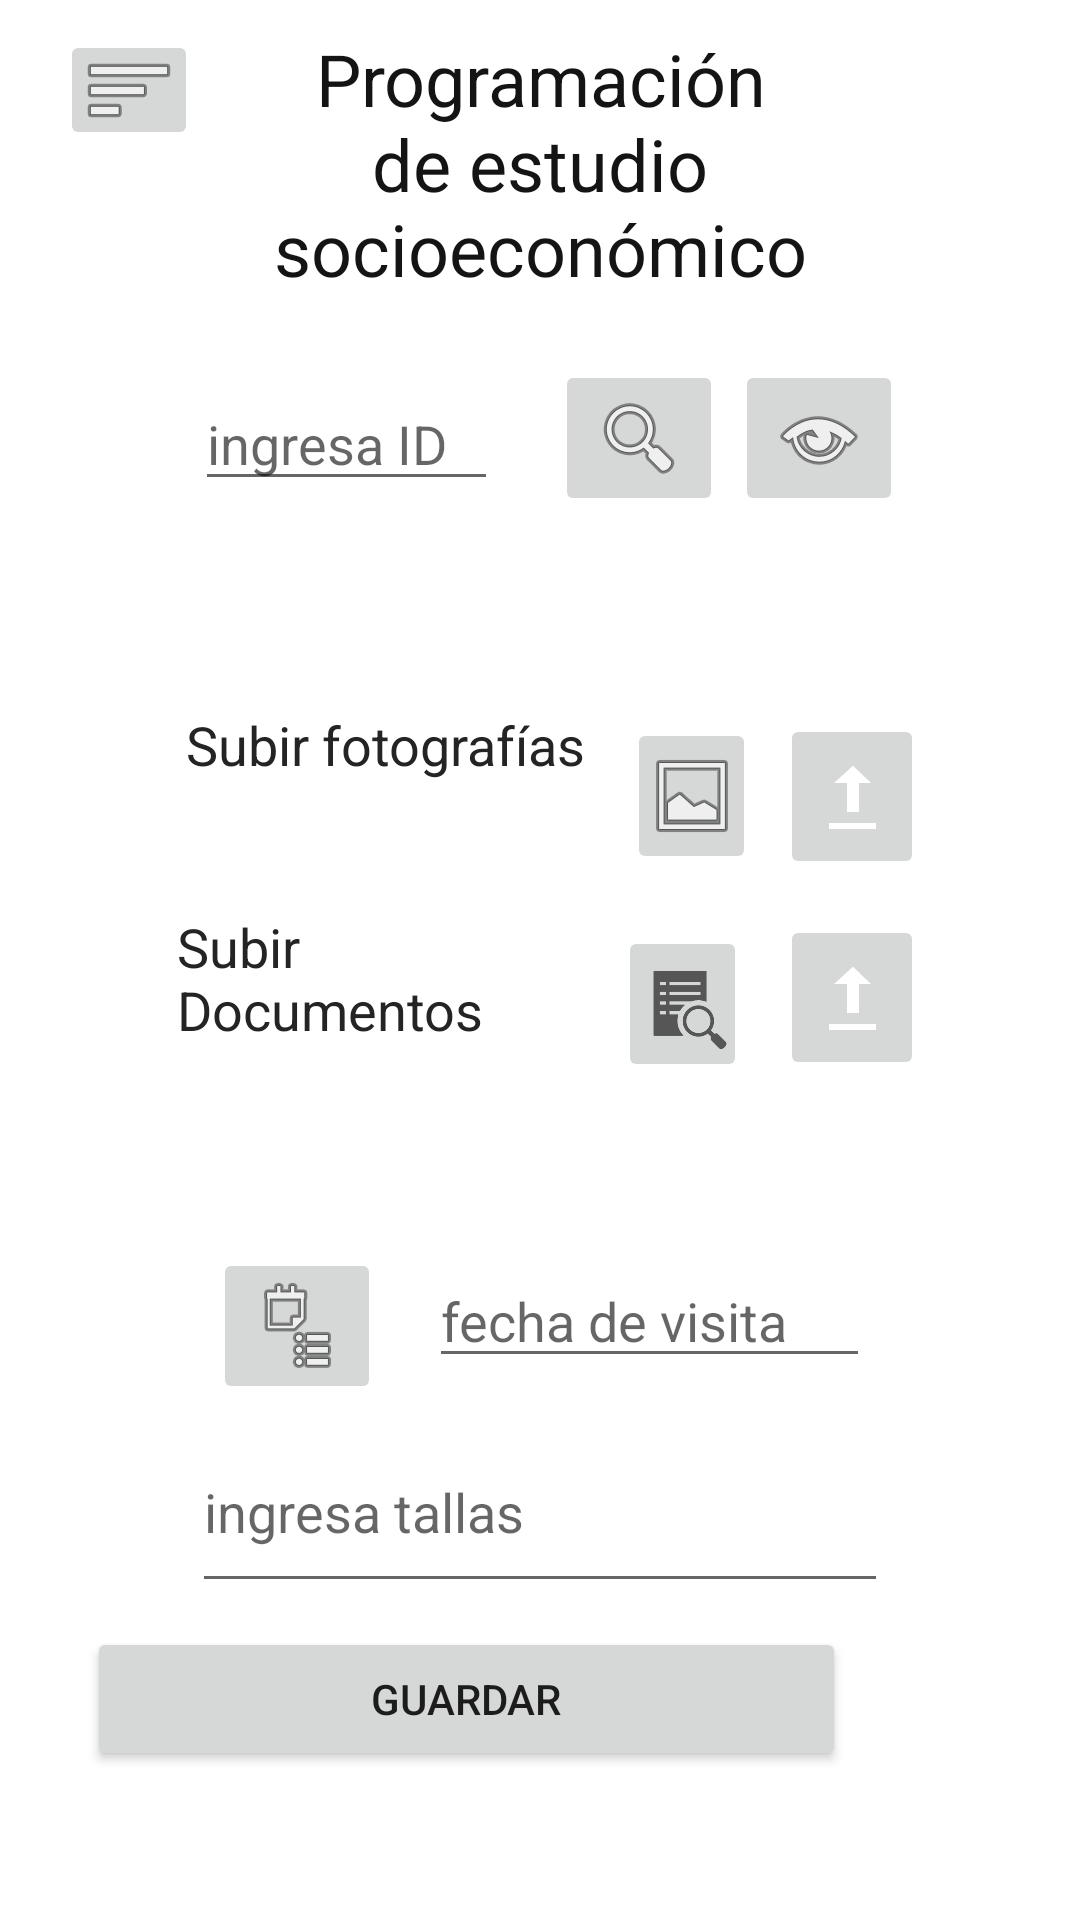

Named icons in this screenshot (1080*1920) and their centers, (x,y):
agenda: (297,1326)
gallery: (691,796)
search: (639,438)
sort by size: (129,90)
upload: (852,796), (852,997)
view: (819,438)
